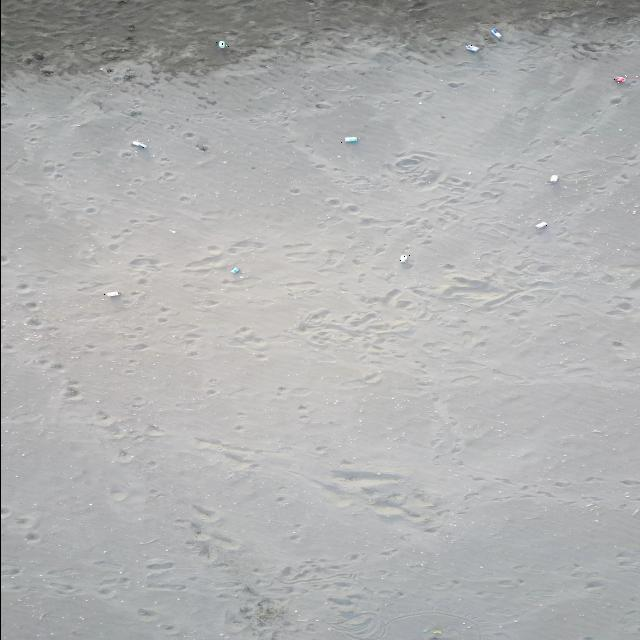Garbage: (489, 26, 500, 39), (103, 289, 120, 296), (131, 140, 145, 148), (464, 44, 479, 51), (613, 75, 624, 83), (535, 220, 547, 227), (196, 143, 206, 151), (344, 136, 355, 143), (230, 266, 240, 273), (432, 628, 442, 635), (400, 253, 408, 261), (218, 40, 227, 47), (548, 173, 557, 180), (168, 228, 176, 232)
